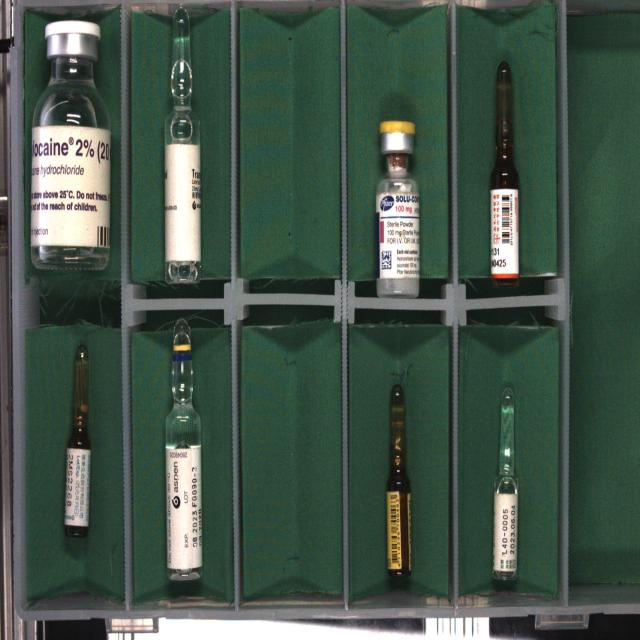Vials: (31, 20, 110, 270), (376, 121, 419, 298)
